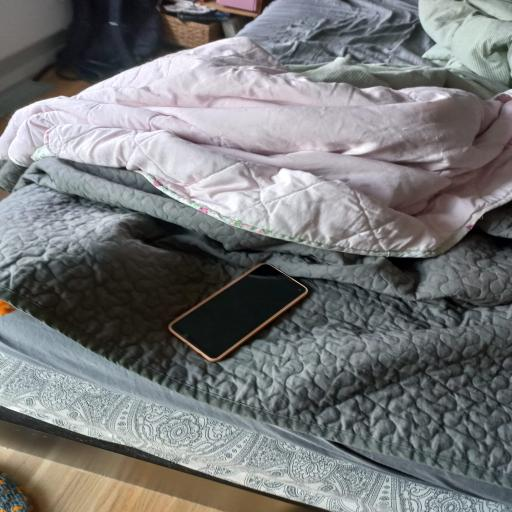phone: (168, 264, 306, 361)
